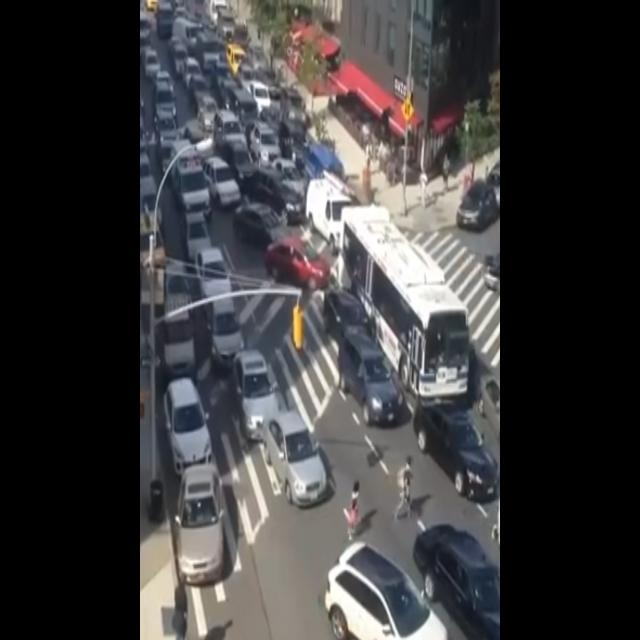Ambulance: (168, 134, 215, 224)
